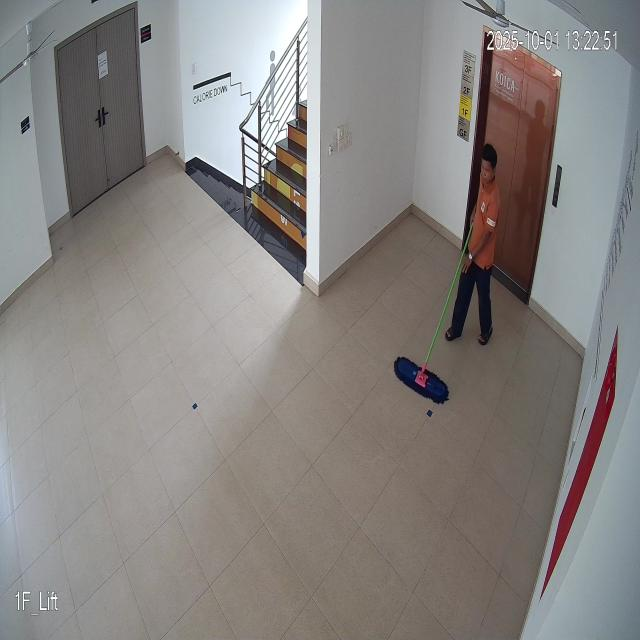face: (479, 140, 498, 192)
